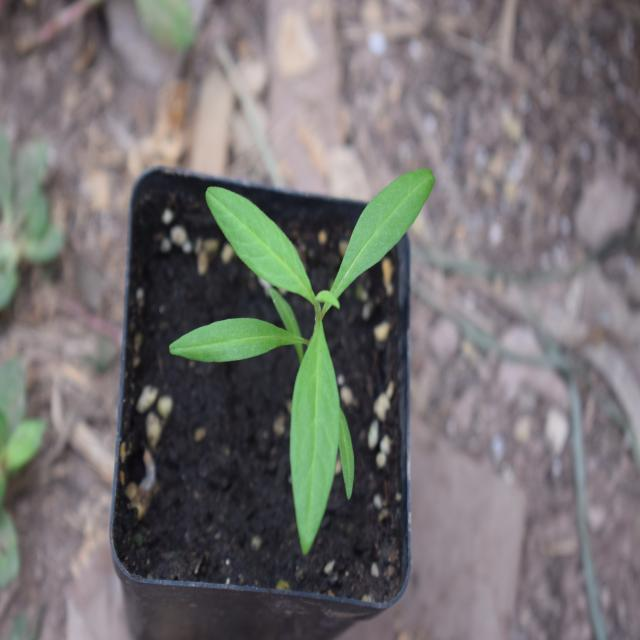white_smart_weed: (180, 147, 476, 538)
